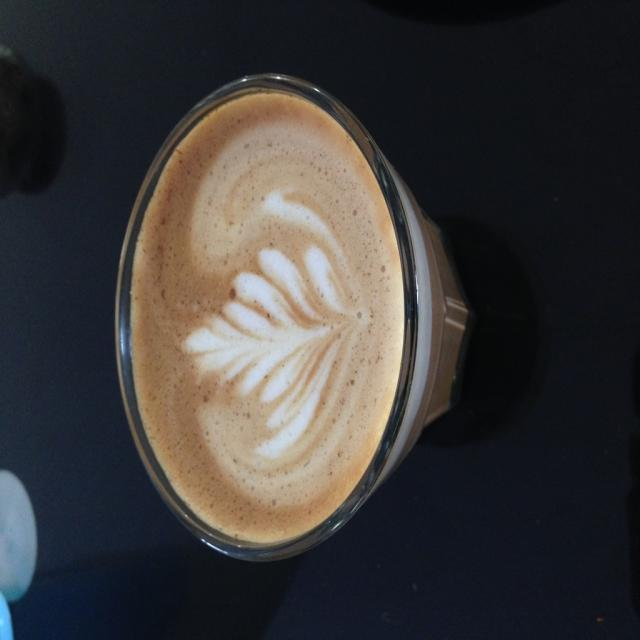Coffee: (125, 97, 407, 545)
